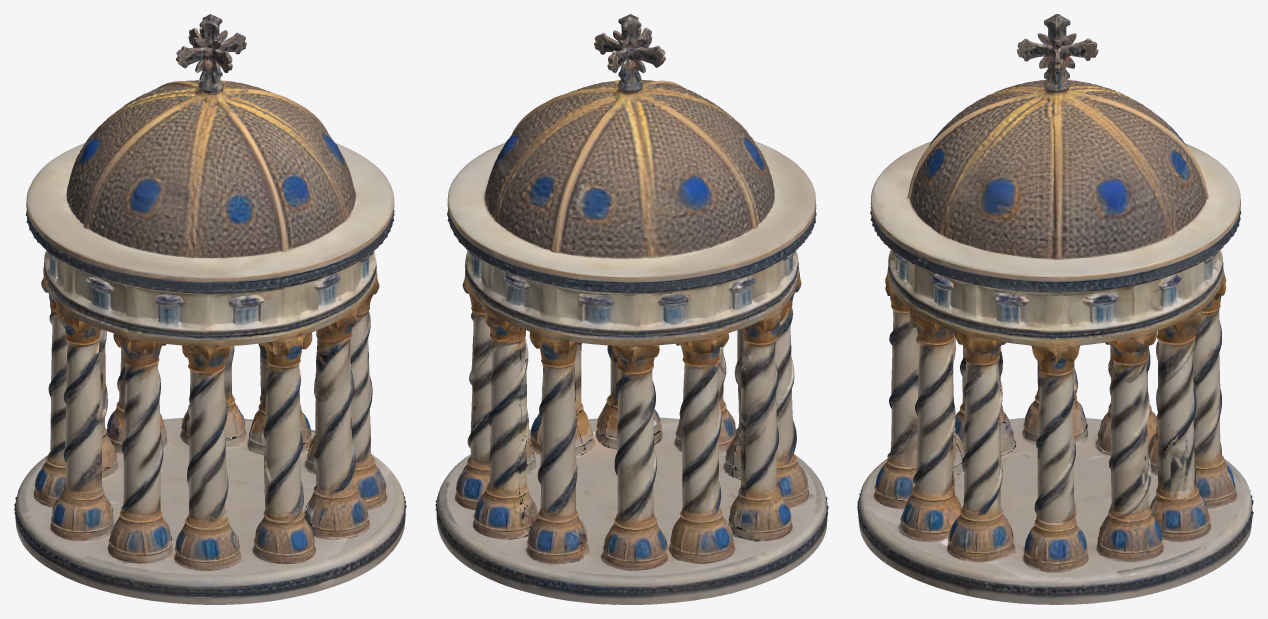
Rendered from rook.glb.
The picture shows the model from 3 angles, left to right: view 1: azimuth 30°, elevation 25°; view 2: azimuth 150°, elevation 25°; view 3: azimuth 270°, elevation 25°; orthographic projection.
Visible parts, largest first — view 1: model; view 2: model; view 3: model.
Boxes of the visible parts, bbox=[...] form: model: bbox=[14, 14, 406, 604]; model: bbox=[435, 14, 828, 604]; model: bbox=[857, 14, 1253, 604].
Size of the model in its own units: 1.33 by 1.9 by 1.33.
1 material, 1 textured.
